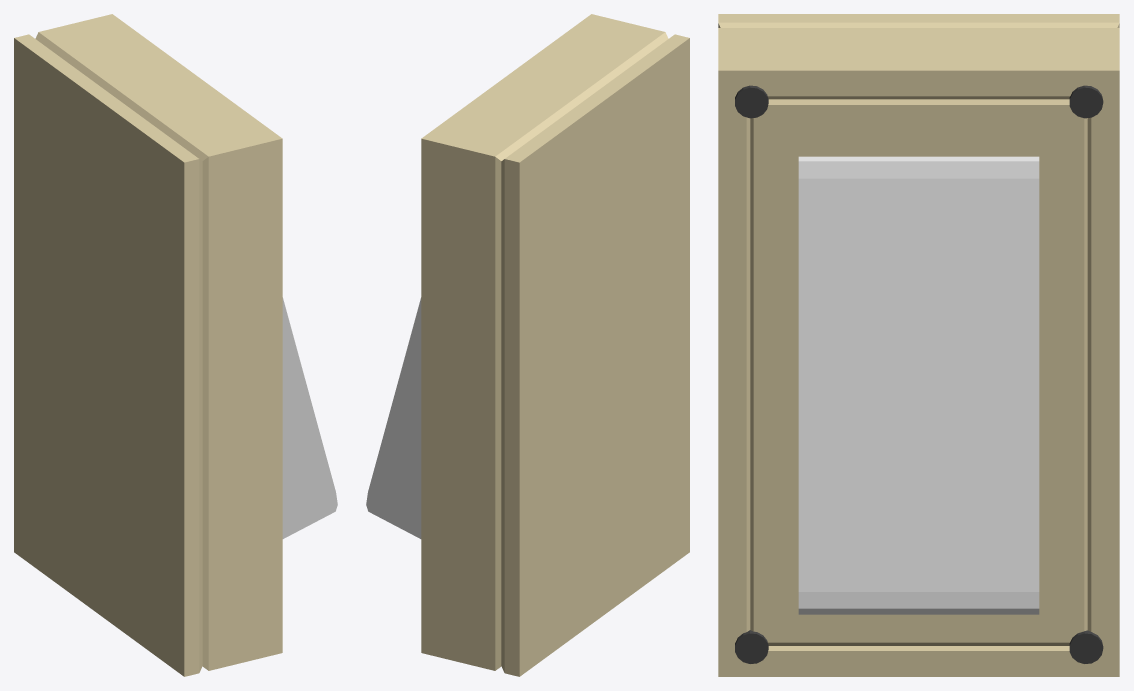
Rendered from switch.fbx.
3 renders of one model, left to right at view 1: azimuth 30°, elevation 25°; view 2: azimuth 150°, elevation 25°; view 3: azimuth 270°, elevation 25°, orthographic. The views are drawn at different scales.
Parts seen in each view (by area): view 1: Cube, Cube.001; view 2: Cube, Cube.001; view 3: Cube, Cube.001.
Part boxes in pixels (box(x1,y1,x2,y2)): Cube: box(14, 14, 282, 676); Cube.001: box(282, 297, 337, 538); Cube: box(421, 14, 689, 676); Cube.001: box(366, 297, 421, 538); Cube: box(718, 14, 1119, 676); Cube.001: box(798, 156, 1039, 614).
Size of the model in its own units: 76.29 by 200 by 120.
